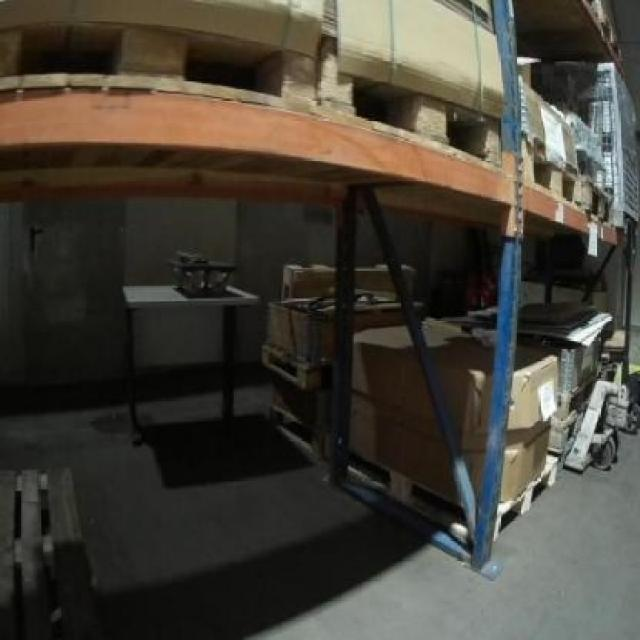pallets: (348, 325, 454, 500), (422, 318, 491, 488), (498, 345, 555, 497)
